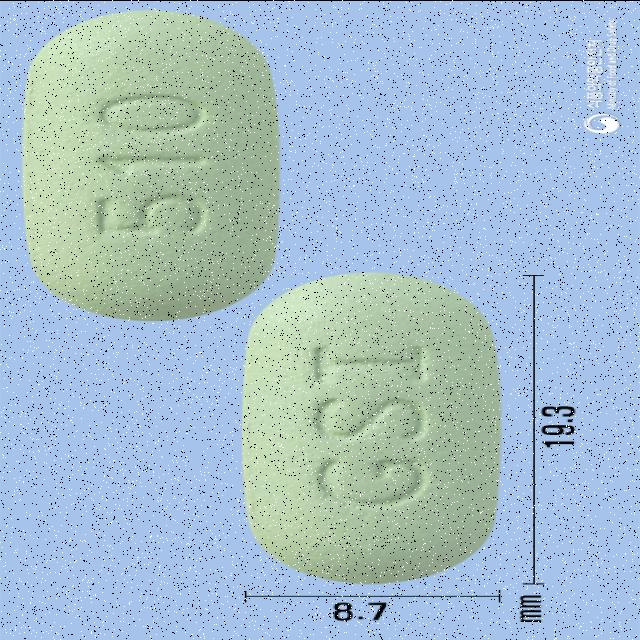Genvoya: (240, 270, 504, 586), (23, 8, 279, 322)
